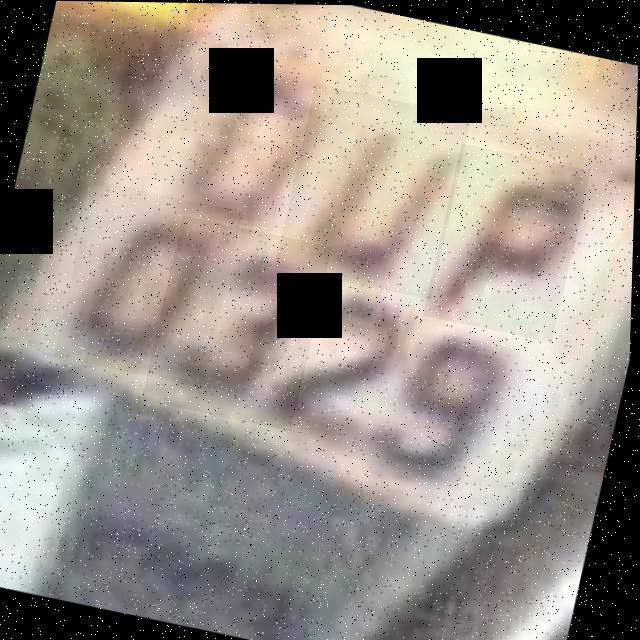0: (56, 180, 244, 388)
2: (243, 263, 434, 465)
3: (143, 215, 334, 431)
9: (359, 299, 533, 493)
O: (158, 46, 339, 252)
P: (424, 142, 592, 341)
U: (276, 83, 474, 299)
